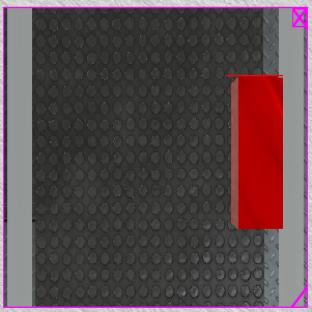objects: (229, 76, 286, 231)
